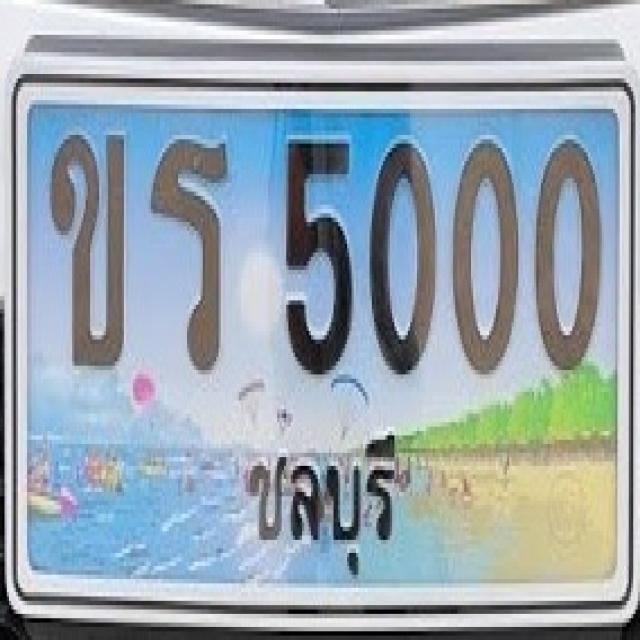license_plate: (3, 52, 640, 625)
